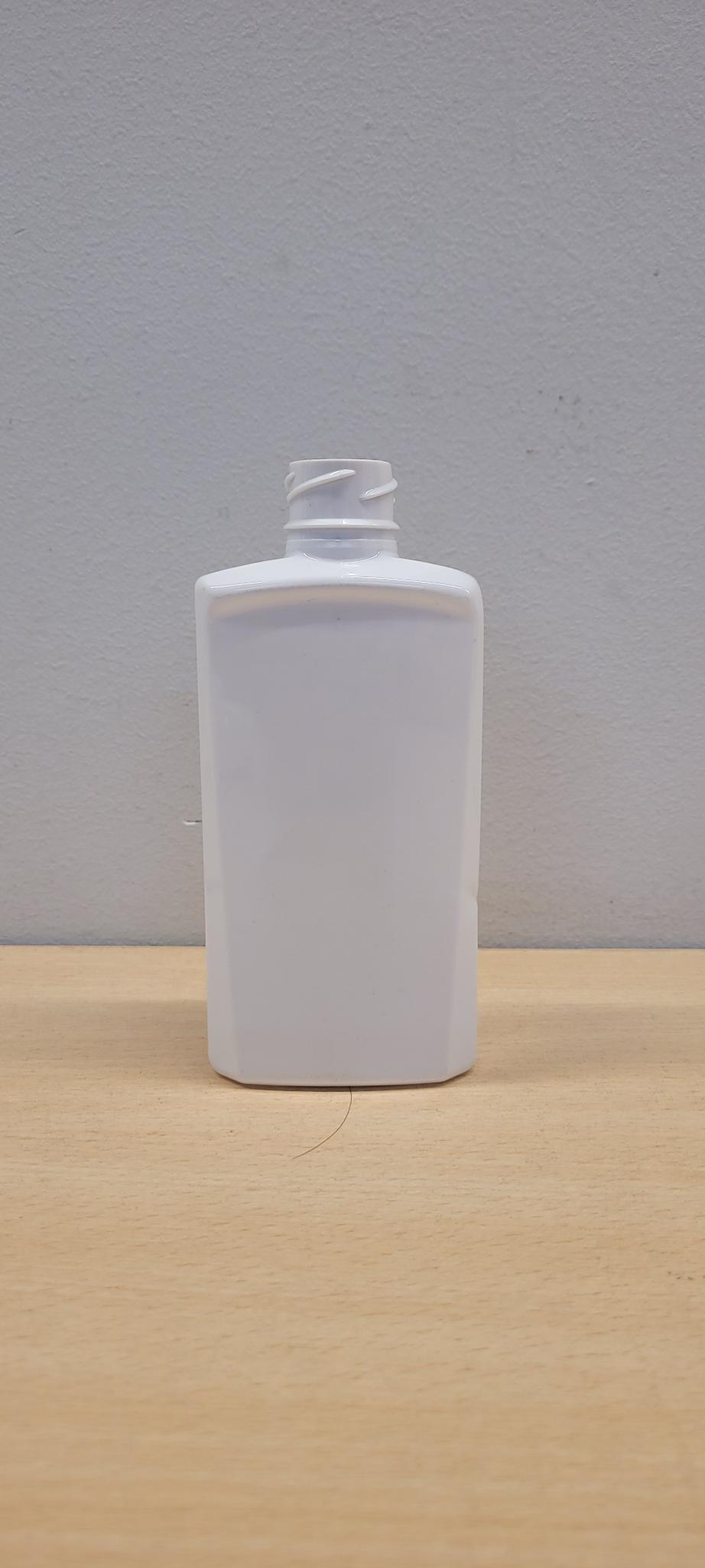bottle: (195, 458, 484, 1088)
